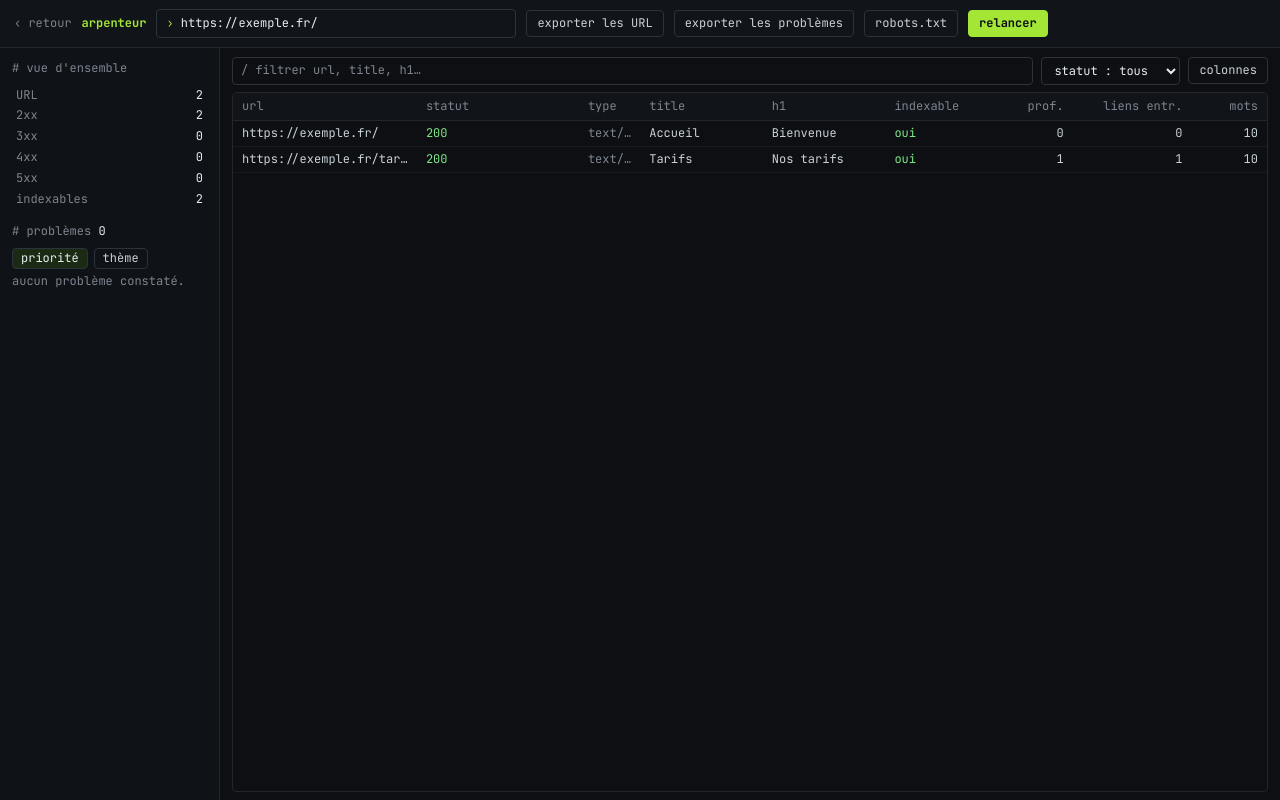
un clic sur une ligne ouvre le détail avec les liens entrants
The image size is (1280, 800).
Click the text "https://exemple.fr/tarifs" at x=325, y=159, box [242,151,408,168]
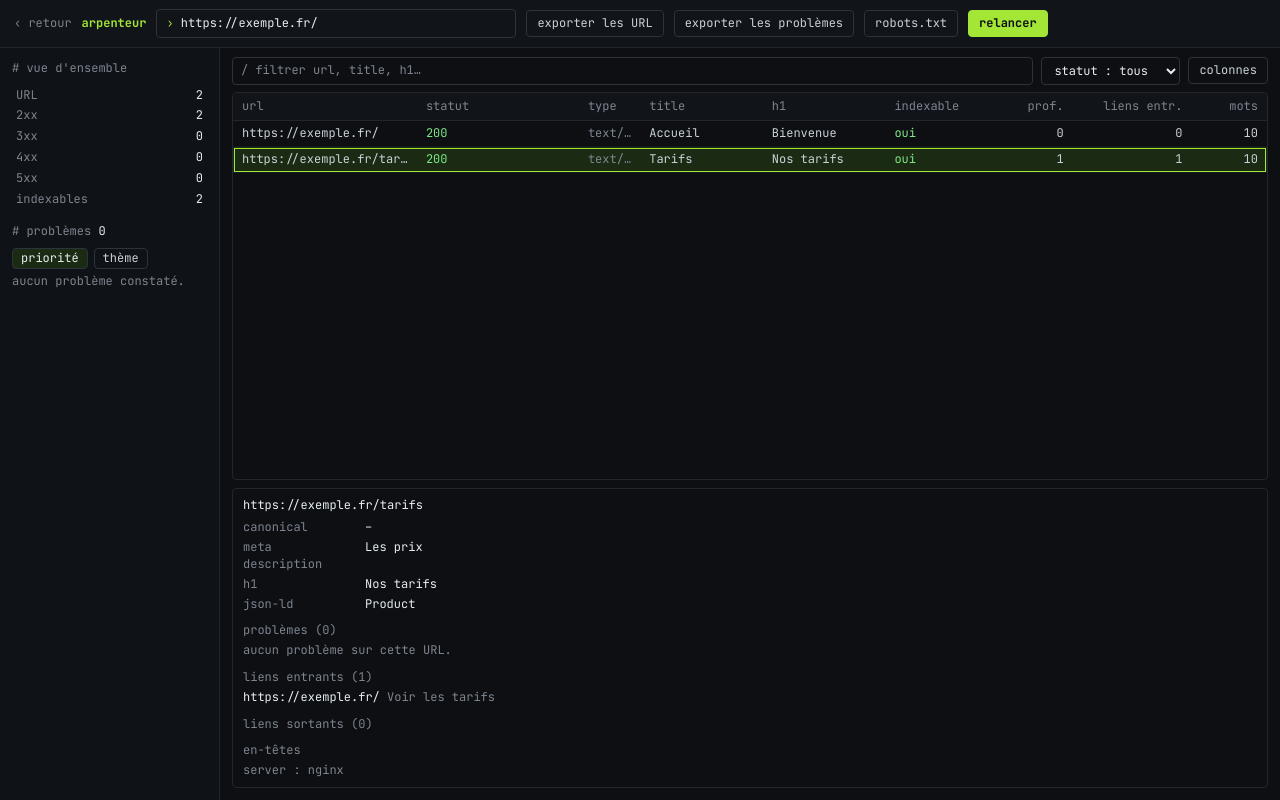
expect the text "Voir les tarifs" is shown: met, box [387,689,495,705]
expect the text "Les prix" is shown: met, box [365,539,423,555]
expect the list item "Product" is shown: met, box [365,596,415,612]
